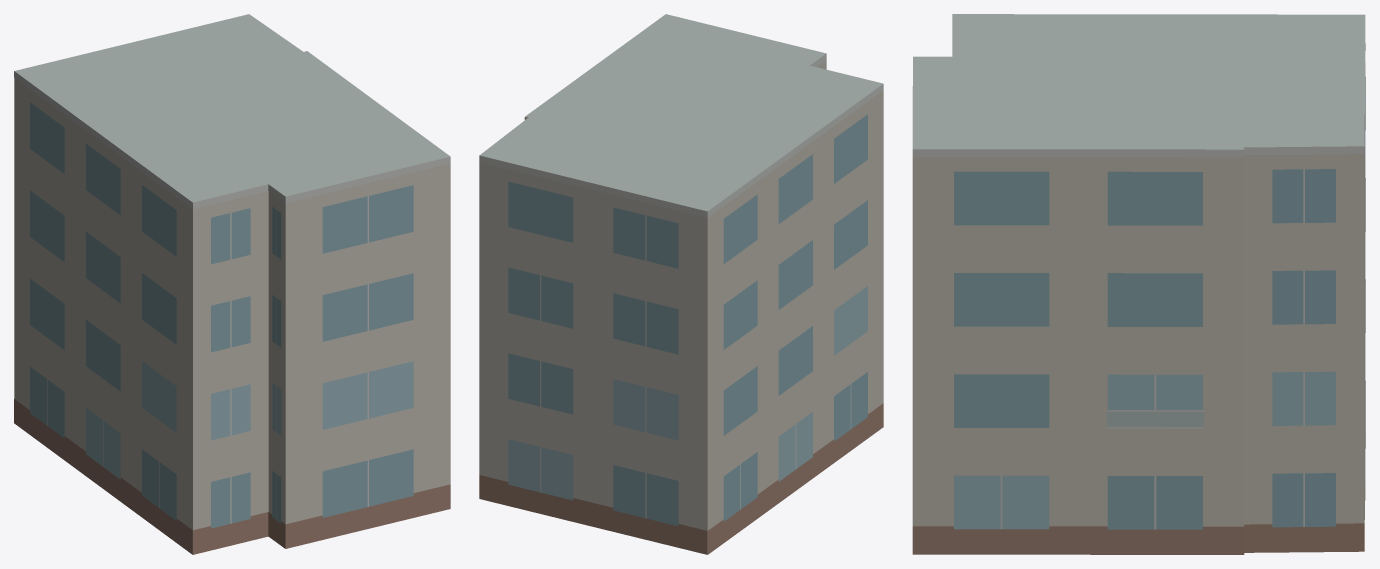
File: survey-upis-32634116.glb
3 renders of one model, left to right at view 1: azimuth 30°, elevation 25°; view 2: azimuth 150°, elevation 25°; view 3: azimuth 270°, elevation 25°, orthographic. The views are drawn at different scales.
Parts seen in each view (by area): view 1: survey-upis-32634116.tmp; view 2: survey-upis-32634116.tmp; view 3: survey-upis-32634116.tmp.
Boxes of the visible parts, left/top/right/bottom form: survey-upis-32634116.tmp: left=14, top=14, right=450, bottom=554; survey-upis-32634116.tmp: left=479, top=14, right=883, bottom=554; survey-upis-32634116.tmp: left=912, top=14, right=1365, bottom=554.
Bounding box in the file's own units: 9.22 × 12.8 × 12.97.
